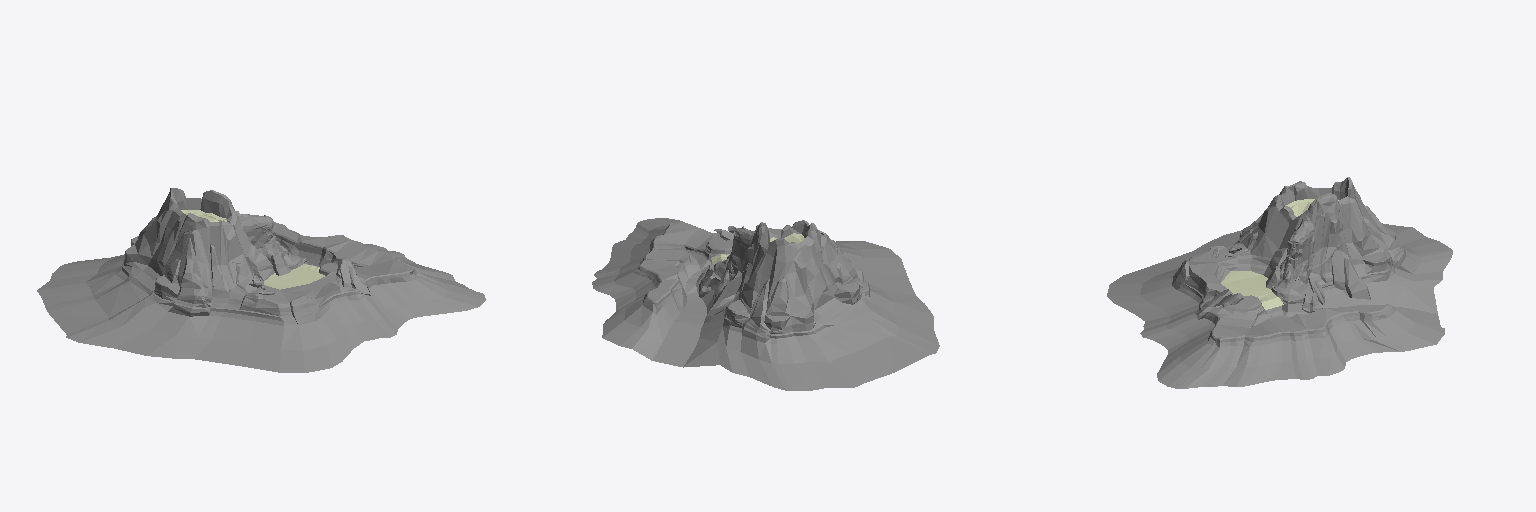
The model's file is Treasure_MapV3_Objects.obj.
The picture shows the model from 3 angles: view 1: azimuth 30°, elevation 25°; view 2: azimuth 150°, elevation 25°; view 3: azimuth 270°, elevation 25°; orthographic projection.
Visible parts, largest first — view 1: Object003, Object004; view 2: Object003; view 3: Object003, Object004.
Part boxes in pixels (left/top/right/bottom): Object003: left=37, top=188, right=485, bottom=372; Object004: left=264, top=265, right=324, bottom=289; Object003: left=592, top=218, right=939, bottom=390; Object003: left=1107, top=177, right=1452, bottom=388; Object004: left=1221, top=271, right=1275, bottom=299.
Bounding box in the file's own units: 45628 × 13421 × 38227.